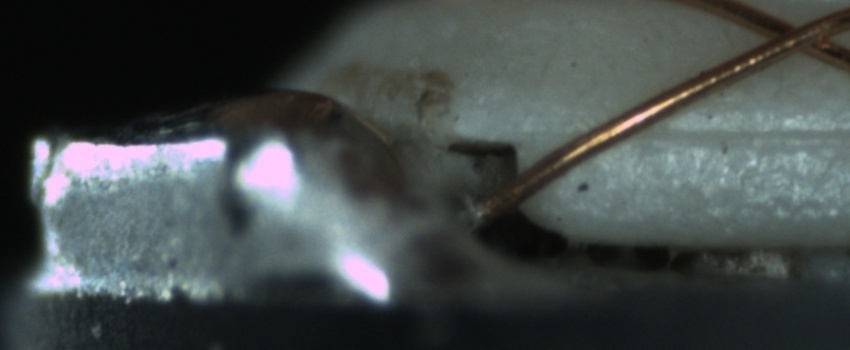CL: (744, 4, 845, 65)
DL: (552, 99, 849, 165)
